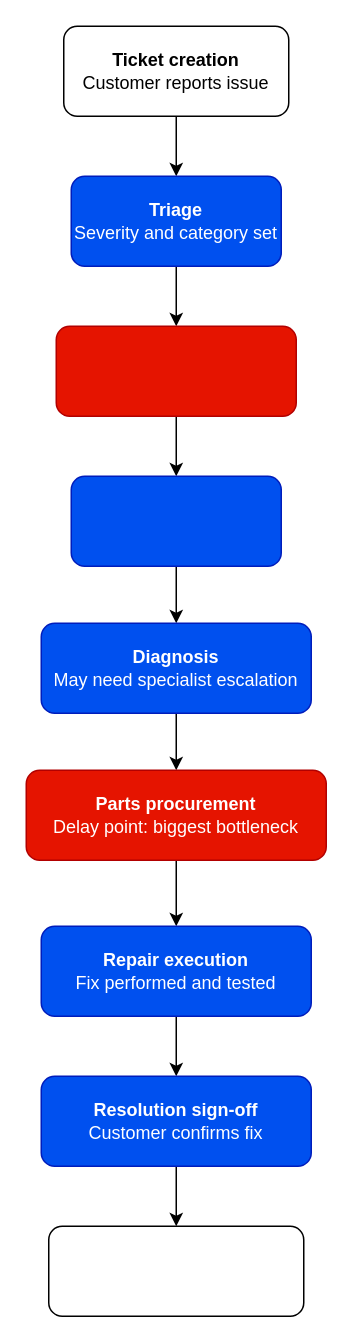
The diagram is 353 pixels wide and 1343 high, and some of its shapes have lost their labels. Each missing label, with the centre of its shape:
Engineer assignment Delay point:regional load: the point at 175,370
Scheduling Visit window confirmed: the point at 175,520
Ticket closure SLA timer stops, logged: the point at 175,1270
